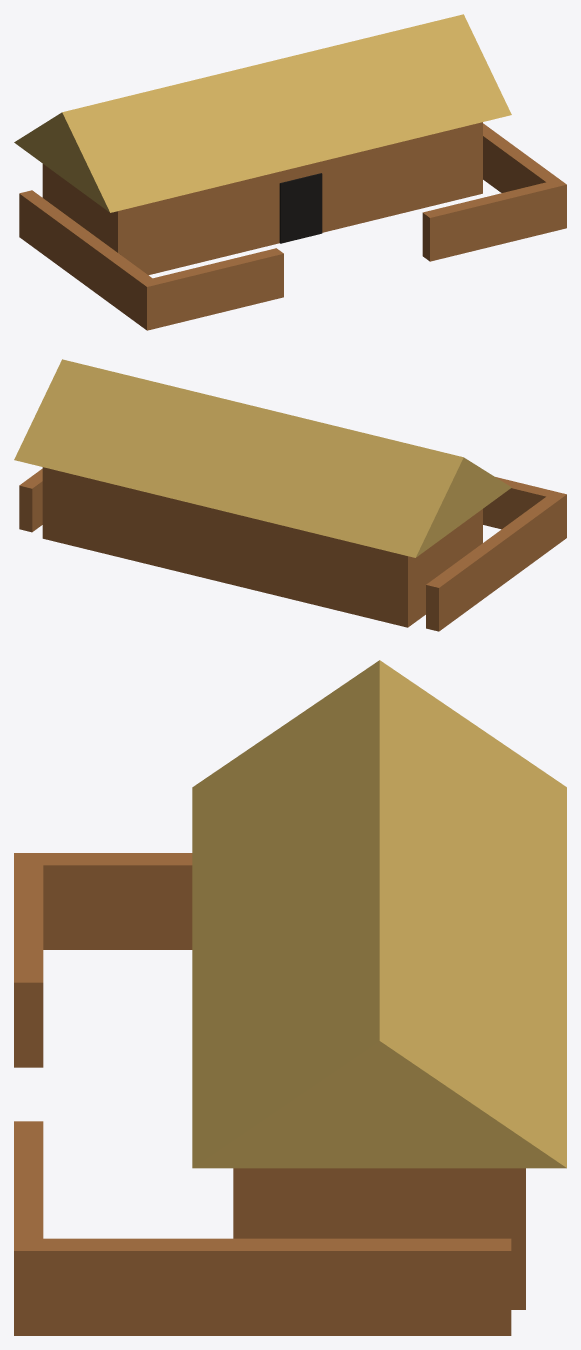
The model's file is barracks.glb.
3 renders of one model, top to bottom at view 1: azimuth 30°, elevation 25°; view 2: azimuth 150°, elevation 25°; view 3: azimuth 270°, elevation 25°, orthographic. The views are drawn at different scales.
Visible parts, largest first — view 1: Barracks; view 2: Barracks; view 3: Barracks.
Part boxes in pixels (left/top/right/bottom): Barracks: left=14, top=14, right=566, bottom=330; Barracks: left=14, top=359, right=566, bottom=631; Barracks: left=14, top=660, right=566, bottom=1335.
Bounding box in the file's own units: 16.1 × 5.4 × 9.45.
